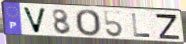5: (103, 10, 125, 39)
8: (51, 8, 73, 36)
L: (130, 13, 153, 39)
O: (74, 9, 102, 38)
V: (21, 6, 48, 35)
Z: (154, 13, 182, 41)
